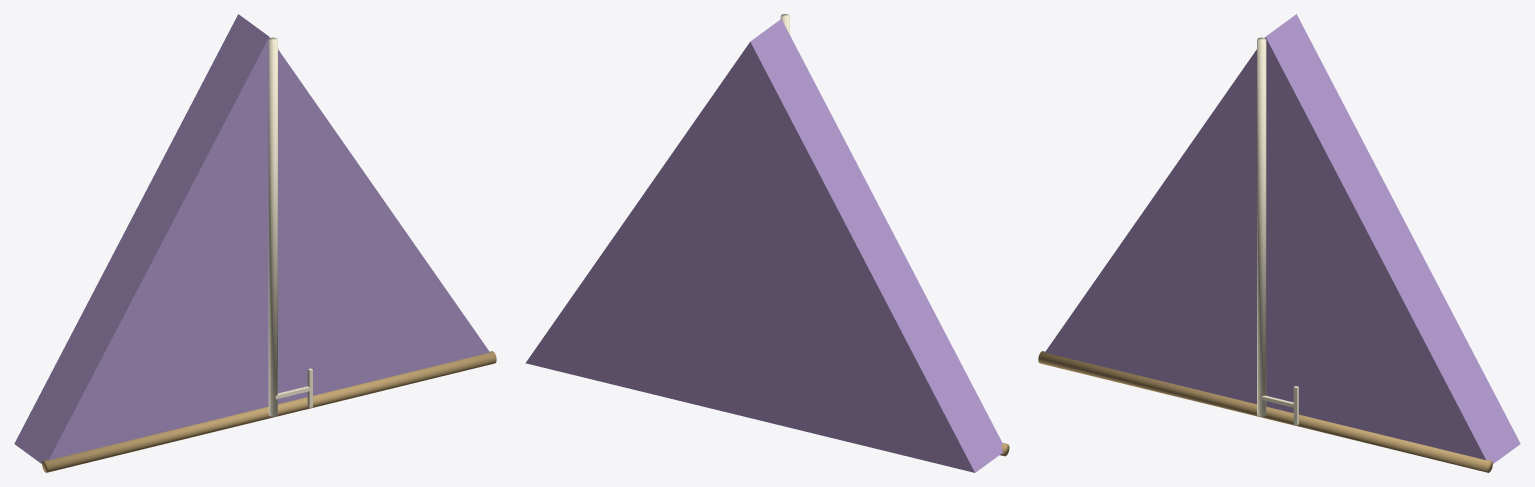
The model's file is triangle.glb.
3 renders of one model, left to right at view 1: azimuth 30°, elevation 25°; view 2: azimuth 150°, elevation 25°; view 3: azimuth 330°, elevation 25°, orthographic.
Visible parts, largest first — view 1: triangle_area_face, triangle_base, triangle_height; view 2: triangle_area_face; view 3: triangle_area_face, triangle_base, triangle_height.
Boxes of the visible parts, left/top/right/bottom form: triangle_area_face: left=14, top=14, right=489, bottom=463; triangle_base: left=42, top=351, right=496, bottom=472; triangle_height: left=268, top=37, right=277, bottom=416; triangle_area_face: left=525, top=19, right=1002, bottom=472; triangle_area_face: left=1045, top=14, right=1520, bottom=463; triangle_base: left=1038, top=351, right=1492, bottom=472; triangle_height: left=1257, top=37, right=1266, bottom=416.
Size of the model in its own units: 2 by 1.62 by 0.2875.
